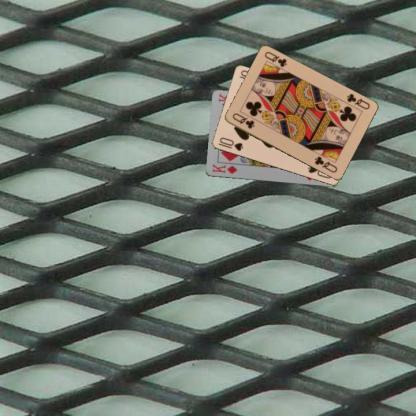10s: (216, 134, 245, 152)
Kd: (209, 162, 238, 176)
Qc: (344, 91, 371, 111), (230, 110, 256, 130)
